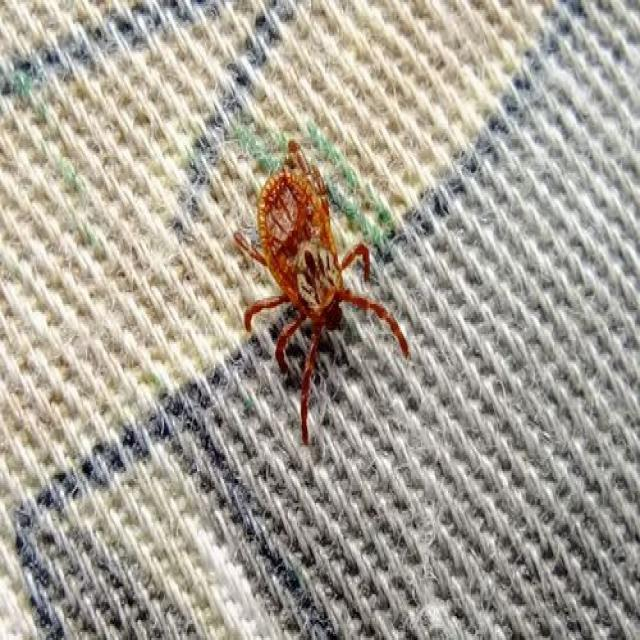Dermacentor Reticulatus-F: (234, 141, 410, 445)
